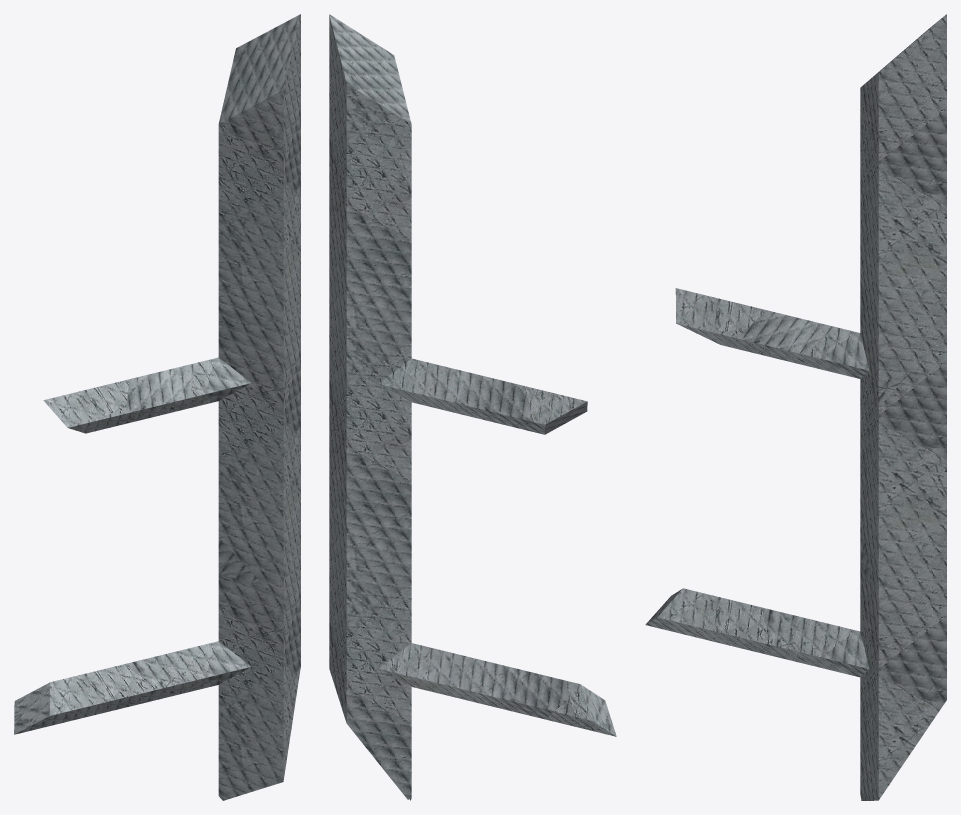
File: misc_ladder_piece_cave.dae
The picture shows the model from 3 angles, left to right: view 1: azimuth 30°, elevation 25°; view 2: azimuth 150°, elevation 25°; view 3: azimuth 330°, elevation 25°; orthographic projection. The views are drawn at different scales.
Parts seen in each view (by area): view 1: ladderpiece; view 2: ladderpiece; view 3: ladderpiece.
Boxes of the visible parts, left/top/right/bottom form: ladderpiece: left=14, top=14, right=300, bottom=800; ladderpiece: left=329, top=14, right=616, bottom=800; ladderpiece: left=645, top=14, right=946, bottom=800.
Size of what is drawn, in the model's own units: 0.3736 by 0.9539 by 0.1072.
